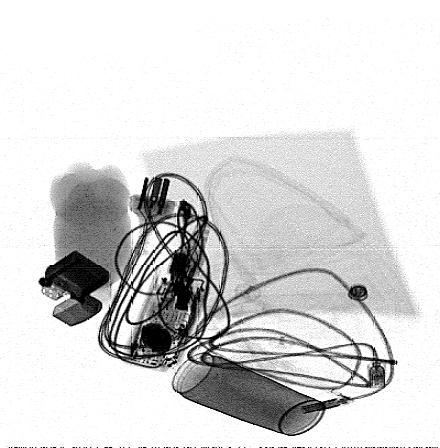Lighter: (37, 250, 110, 328)
